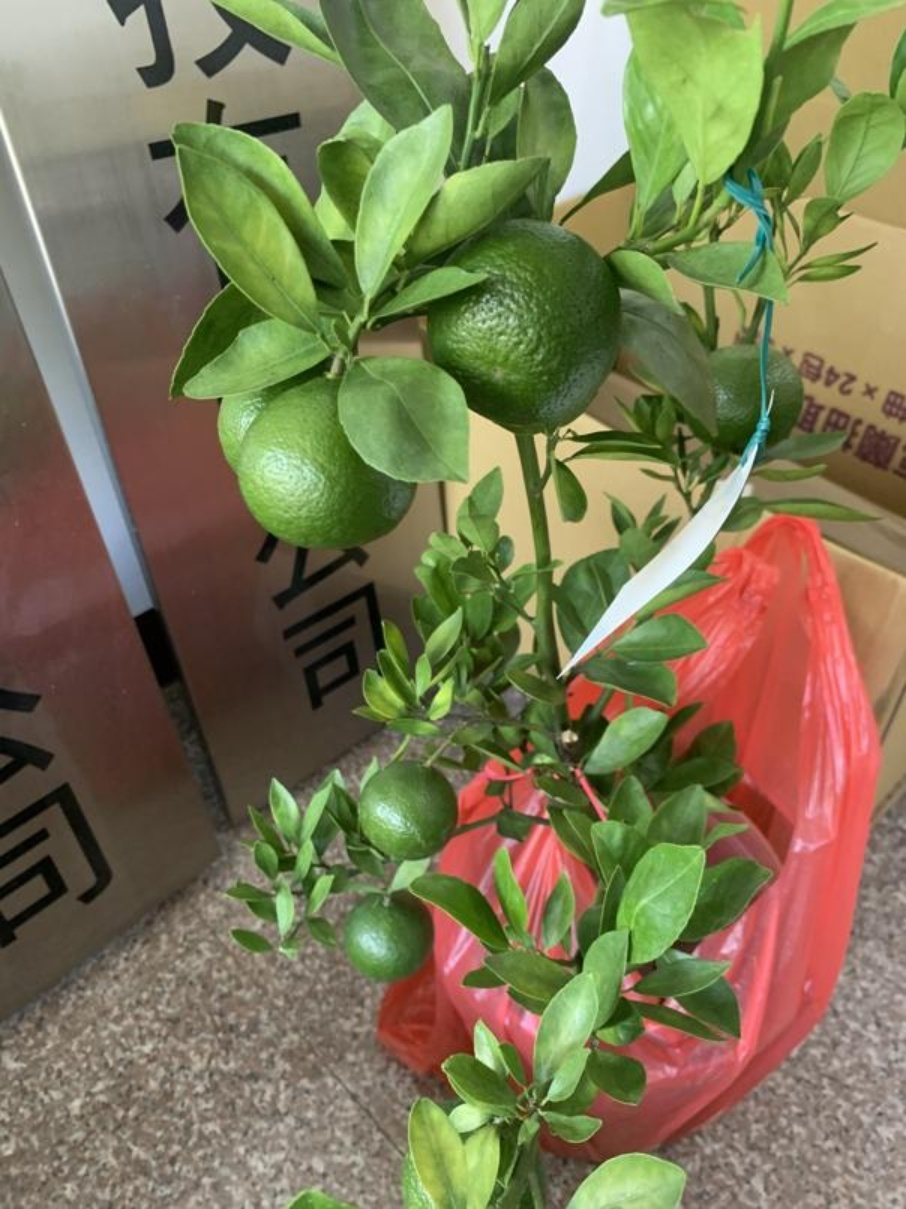Tangerine: (432, 215, 625, 432), (229, 369, 424, 558), (360, 758, 460, 860), (345, 887, 432, 985)
